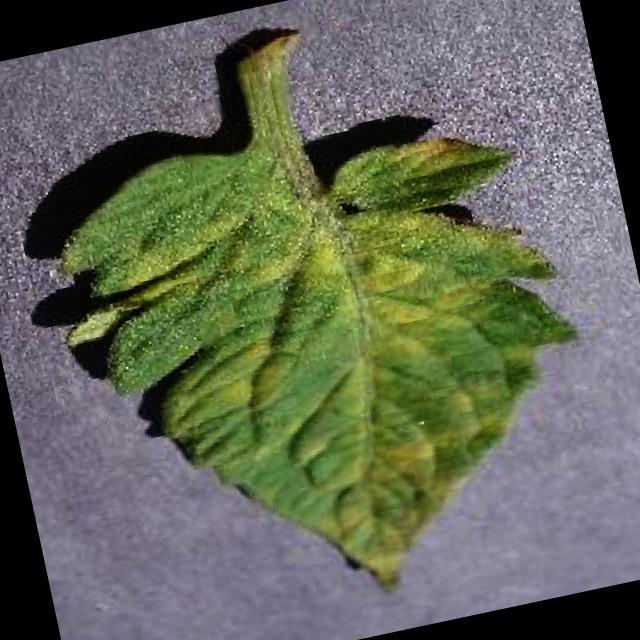Tomato mold leaf: (34, 75, 629, 640)
